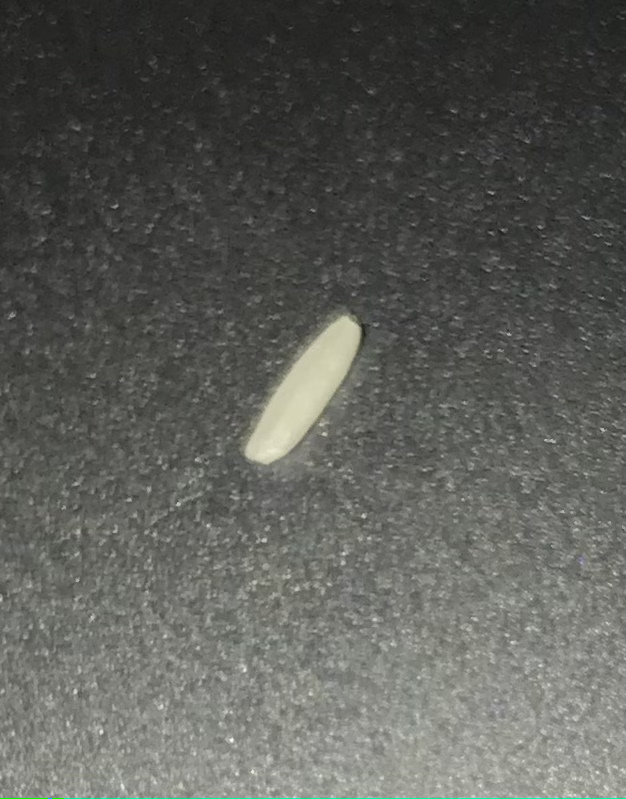Gao Tam Thom: (236, 289, 374, 486)
